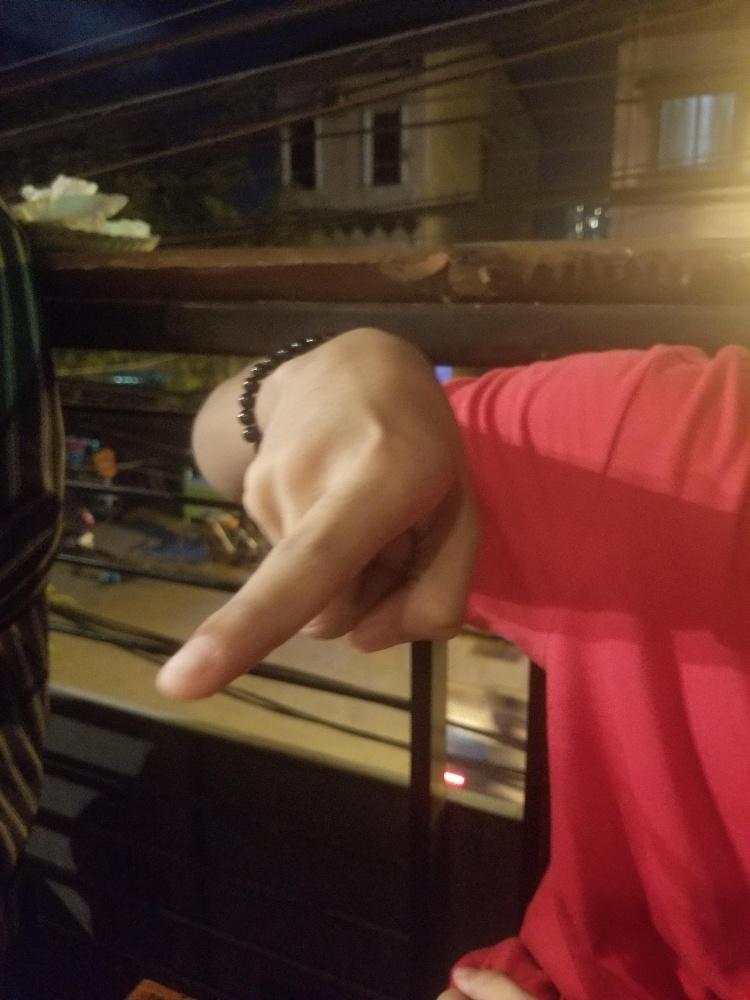z: (151, 323, 481, 703)
